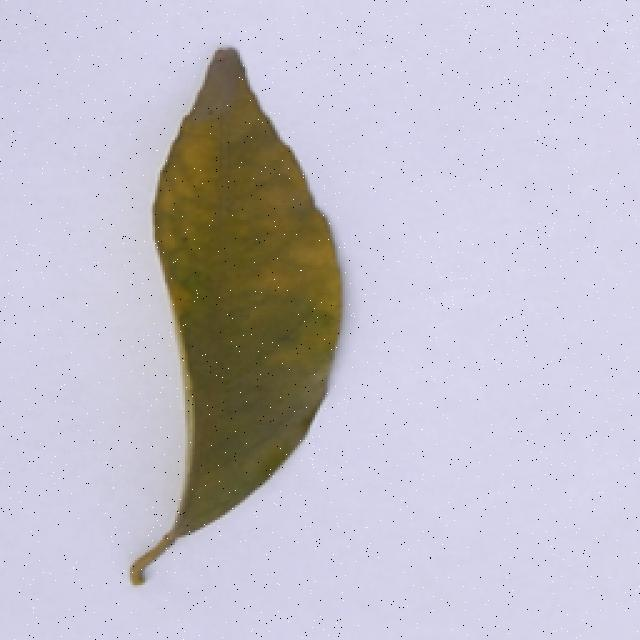greening: (82, 40, 352, 599)
